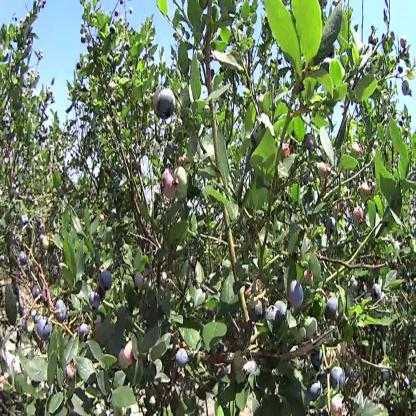intermediate: (161, 171, 174, 198), (174, 169, 186, 192), (331, 396, 343, 415), (356, 208, 365, 227), (120, 352, 129, 370), (126, 341, 134, 361), (303, 271, 314, 285), (353, 143, 362, 160), (68, 362, 76, 379), (281, 141, 290, 155), (320, 162, 326, 176), (334, 201, 340, 215), (115, 10, 120, 17)
mature: (157, 93, 175, 115), (267, 306, 281, 331), (288, 281, 302, 303), (307, 381, 322, 400), (332, 365, 344, 388), (248, 299, 261, 319), (273, 297, 285, 318), (36, 320, 51, 336), (56, 300, 66, 323), (178, 350, 189, 370), (310, 349, 322, 367), (325, 300, 336, 319), (244, 363, 257, 379), (32, 287, 43, 303), (90, 292, 101, 307), (102, 273, 112, 289), (371, 283, 381, 299), (96, 286, 106, 301), (307, 130, 313, 150), (19, 250, 27, 264), (81, 327, 90, 339), (330, 215, 334, 228), (40, 224, 45, 233), (38, 236, 43, 243), (305, 175, 308, 183)
young: (360, 183, 372, 203), (305, 322, 317, 337), (134, 273, 144, 291), (403, 81, 413, 98), (297, 329, 307, 344), (44, 236, 49, 247), (31, 322, 36, 331), (28, 327, 32, 336), (130, 8, 133, 17)
